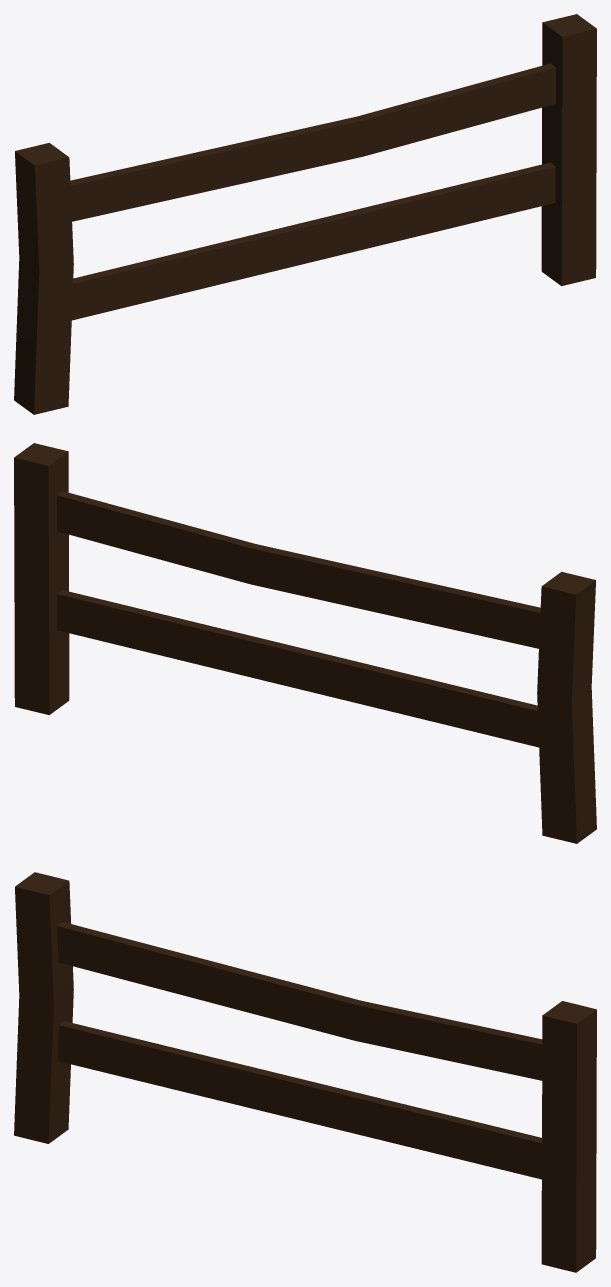
The model's file is Hekje3.fbx.
3 renders of one model, top to bottom at view 1: azimuth 30°, elevation 25°; view 2: azimuth 150°, elevation 25°; view 3: azimuth 330°, elevation 25°, orthographic.
Visible parts, largest first — view 1: pCube7; view 2: pCube7; view 3: pCube7.
Boxes of the visible parts, <box> form: pCube7: <box>14,14,596,414</box>; pCube7: <box>14,443,596,843</box>; pCube7: <box>14,872,596,1272</box>.
Size of the model in its own units: 7.75 by 3.28 by 0.4764.
